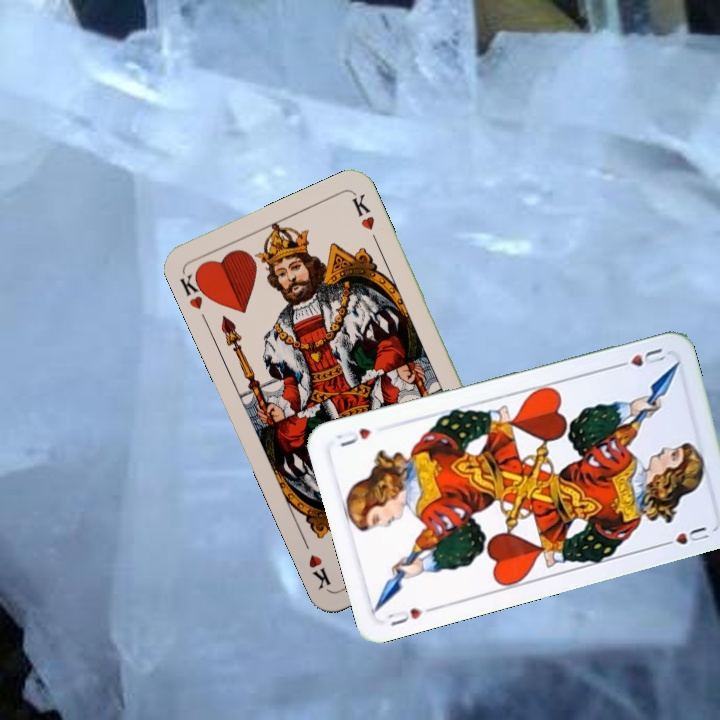HK: (175, 265, 213, 312)
HU: (610, 344, 669, 371), (383, 604, 425, 629)
